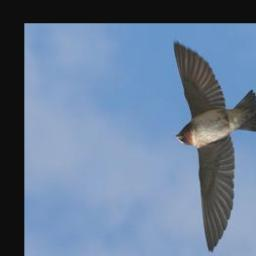Swallow: (172, 42, 256, 254)
